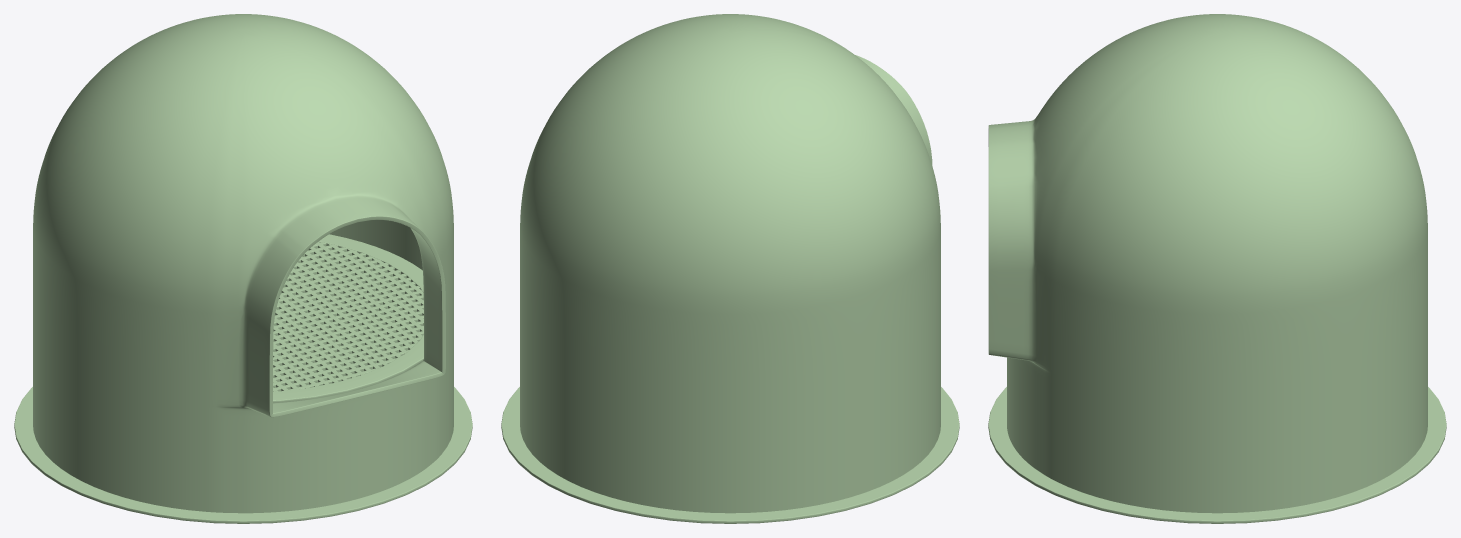
Rendered from MEGA_PACK_Pet__pet-43005_Frame_Green.glb.
The picture shows the model from 3 angles, left to right: view 1: azimuth 30°, elevation 25°; view 2: azimuth 150°, elevation 25°; view 3: azimuth 270°, elevation 25°; orthographic projection.
Parts seen in each view (by area): view 1: pet-43005_Frame_Green; view 2: pet-43005_Frame_Green; view 3: pet-43005_Frame_Green.
Part boxes in pixels (<box>): pet-43005_Frame_Green: <box>14,14,472,523</box>; pet-43005_Frame_Green: <box>501,14,959,523</box>; pet-43005_Frame_Green: <box>988,14,1446,523</box>.
Bounding box in the file's own units: 0.52 × 0.4929 × 0.52.
1 material, 1 textured.
